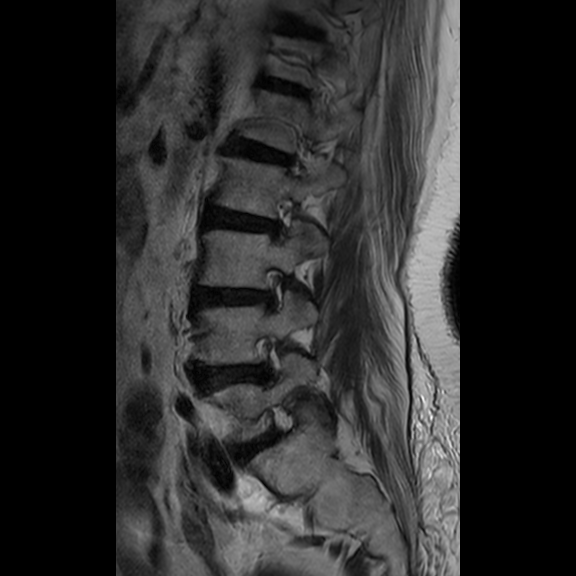LFS0: (245, 326, 291, 391), (249, 261, 296, 321)
LFS1: (259, 190, 300, 251)
